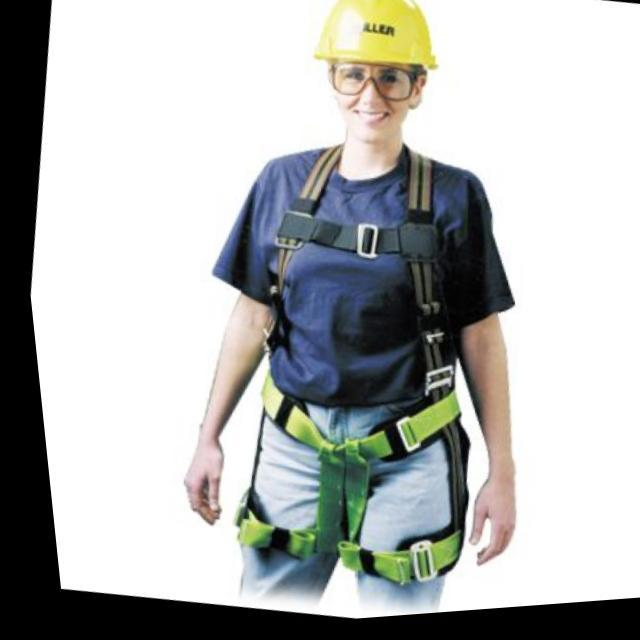belt: (176, 109, 530, 612)
